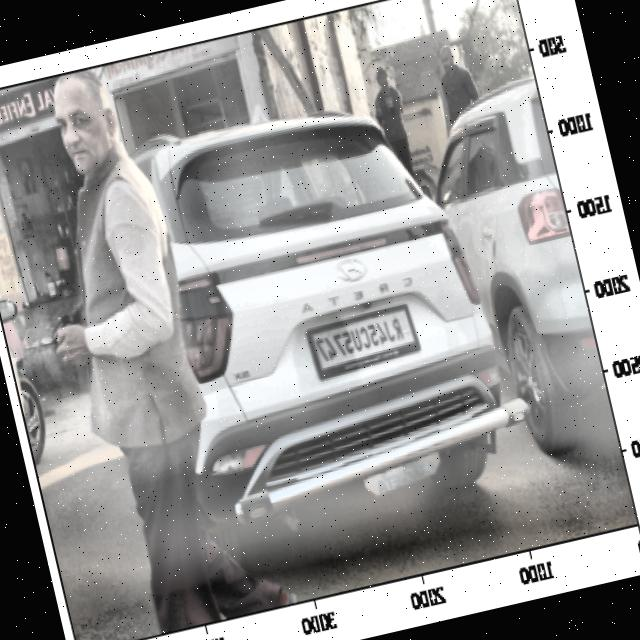license_plate: (309, 305, 410, 372)
